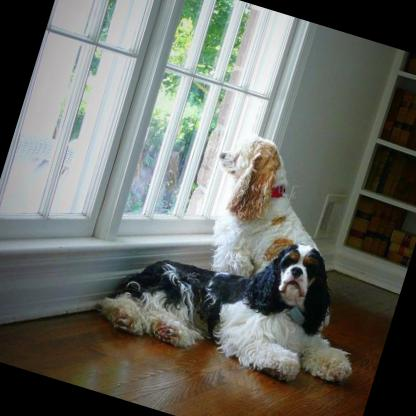cocker_spaniel: (88, 188, 382, 396), (184, 126, 347, 298)
